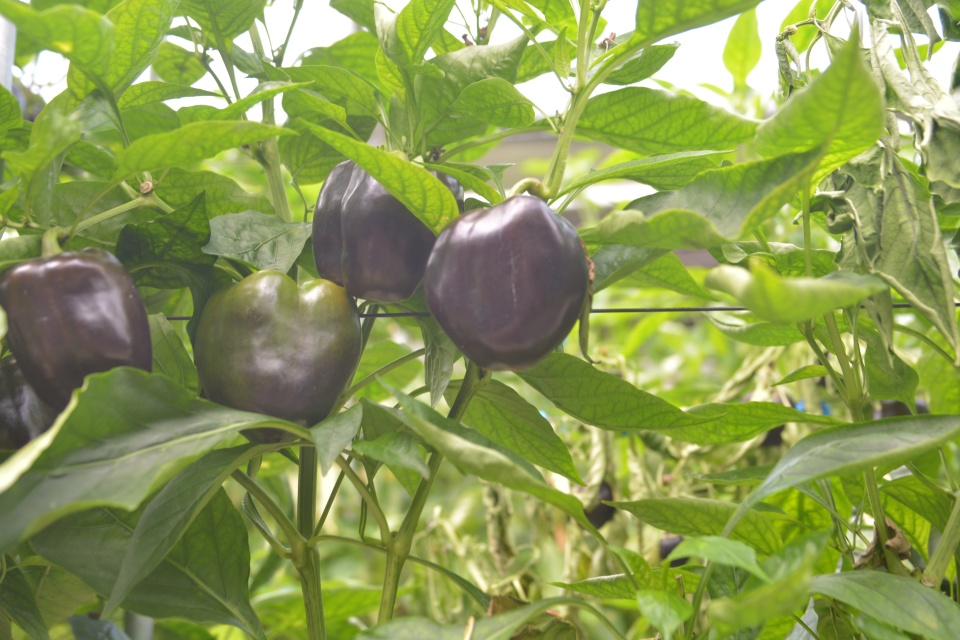fruit: (192, 266, 367, 445), (422, 191, 591, 373), (0, 244, 154, 408), (308, 156, 467, 305), (0, 352, 62, 448), (740, 389, 800, 451), (576, 479, 618, 531), (656, 533, 692, 568)
